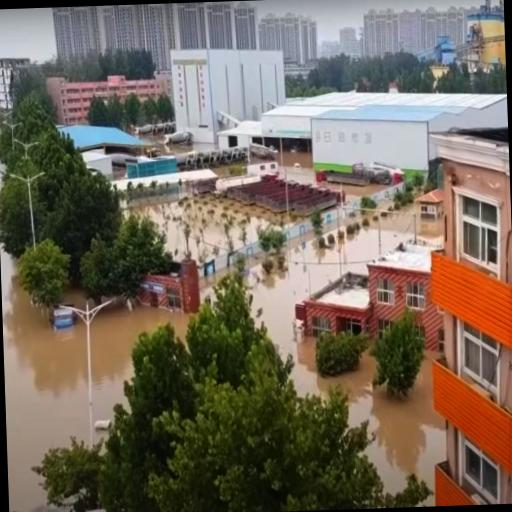flood: (251, 206, 447, 495), (0, 246, 189, 512), (130, 193, 290, 262), (274, 153, 378, 191), (8, 493, 48, 512)
house: (425, 233, 512, 501), (421, 121, 512, 290), (169, 43, 286, 130), (313, 102, 431, 176), (52, 68, 168, 126), (294, 272, 376, 350), (367, 252, 439, 339), (362, 6, 466, 46), (142, 257, 206, 316), (76, 122, 148, 172), (105, 3, 175, 46), (464, 8, 506, 69), (53, 6, 99, 48), (0, 57, 27, 106), (178, 2, 206, 44)
